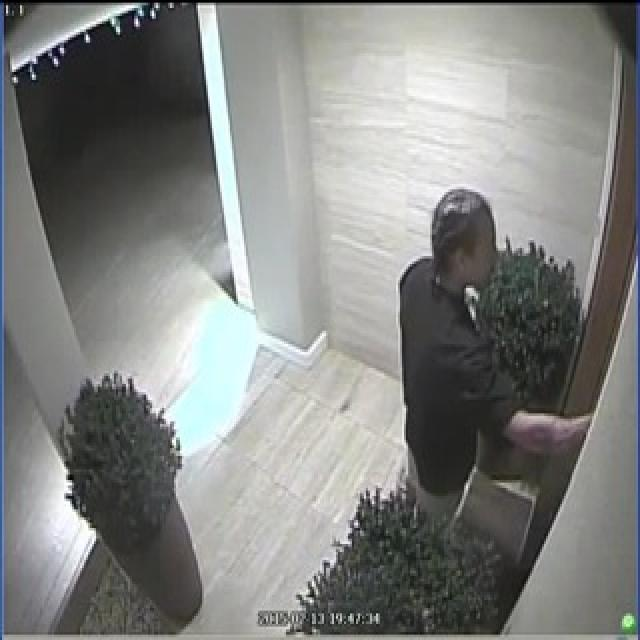thief: (386, 176, 542, 508)
